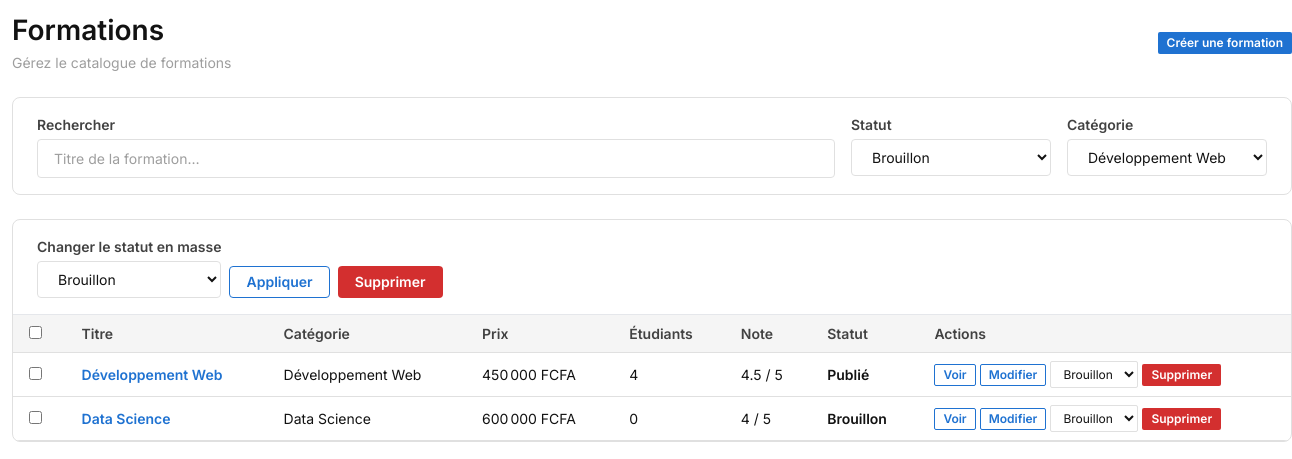
Test case: AdminFormationsComponent › should filter by status
Step 1. Select "Publié" in the dropdown labelled "Statut" → coordinates (951, 158), box [851,139,1051,176]
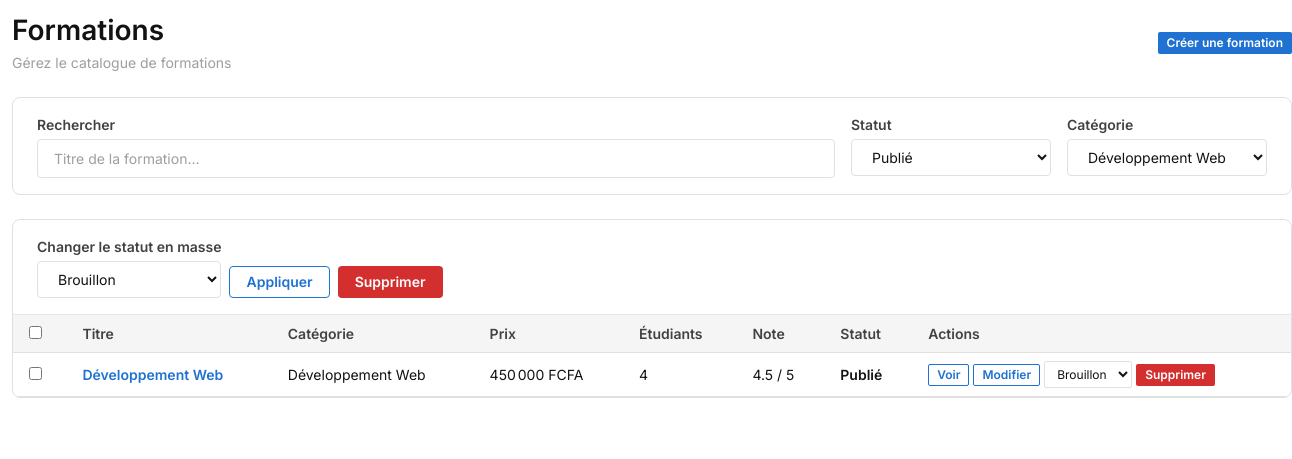
Expected: the table shows "Développement Web", [82,366,223,383]
Now the link "Data Science" no longer shows "Data Science"
